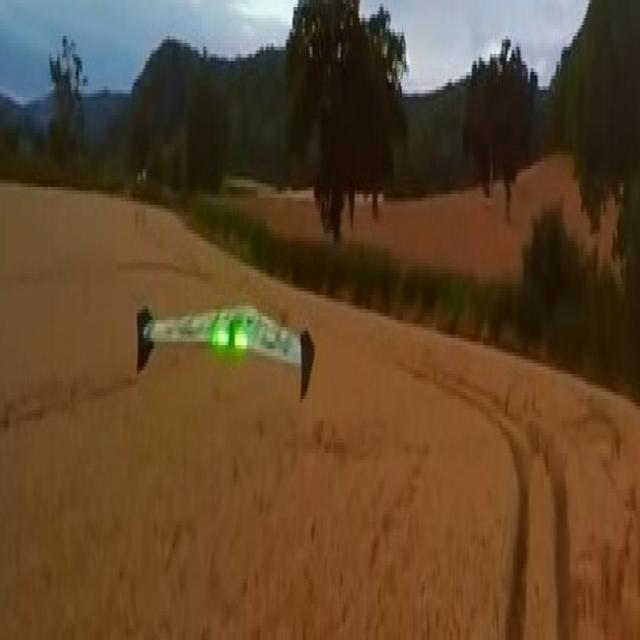iha: (132, 326, 320, 371)
